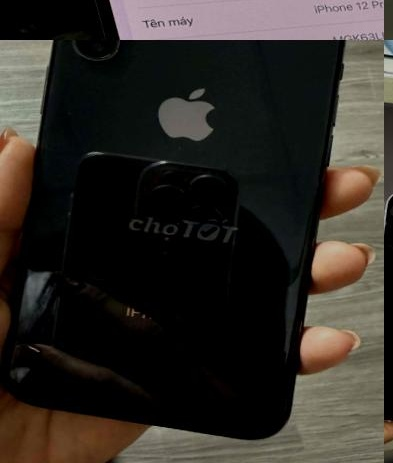scratch: (51, 97, 85, 123), (265, 248, 286, 278), (166, 137, 195, 155)
